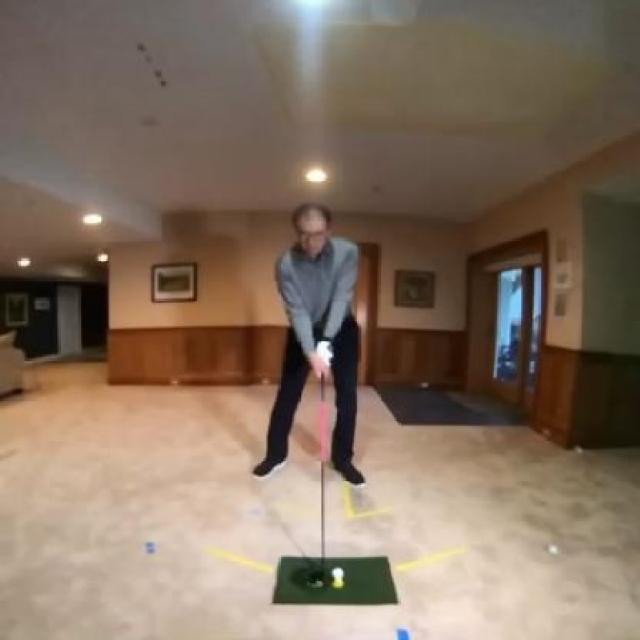club head: (295, 562, 327, 592)
